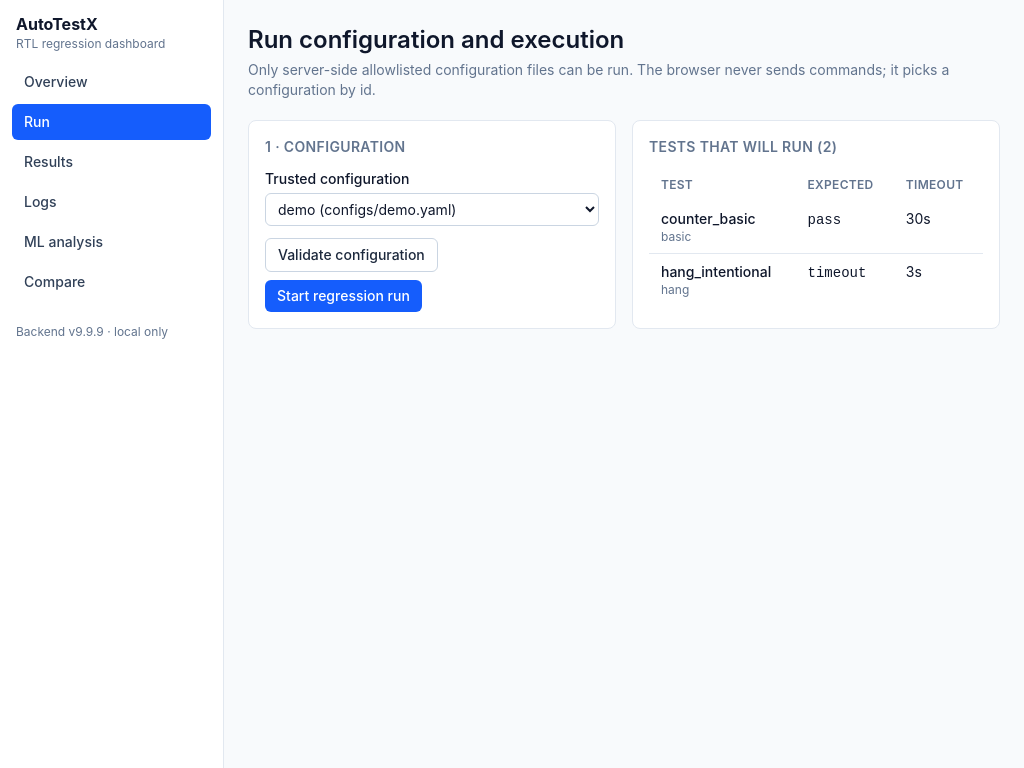
it: Run page › reports a conflict when a run is already active and attaches to it
Check: the text "hang_intentional" is shown, box [661,262,784,282]
Click the button "Start regression run" at (343, 296), box [265,280,422,312]
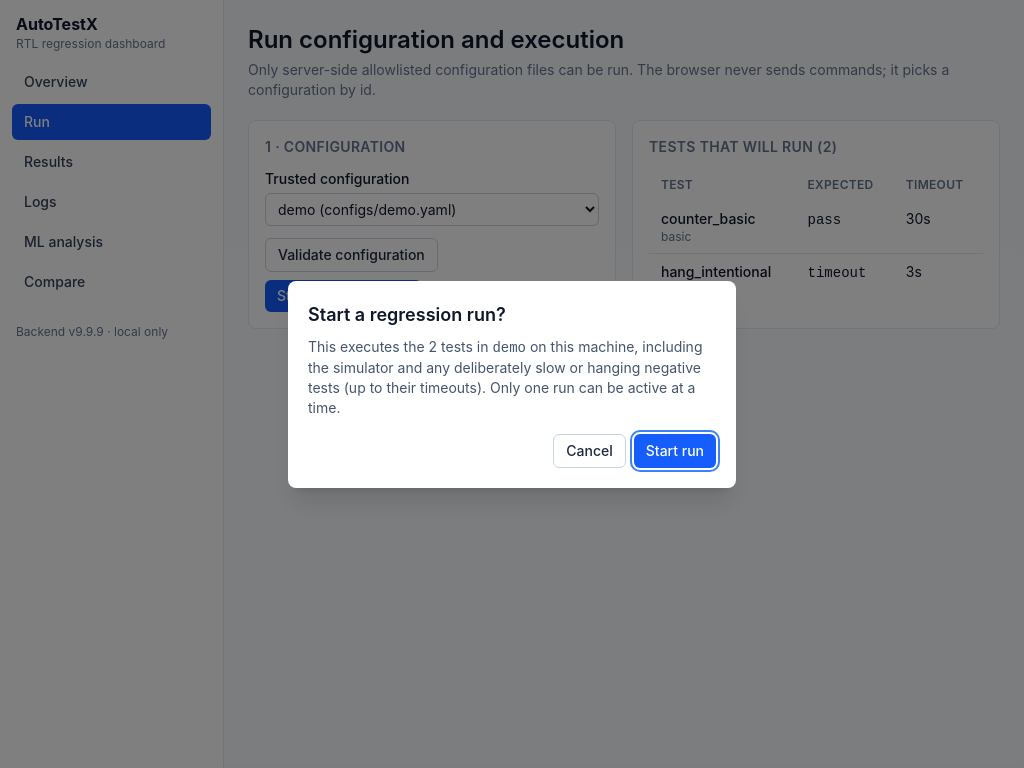
Click the button "Start run" at (675, 450), box [634,434,716,468]
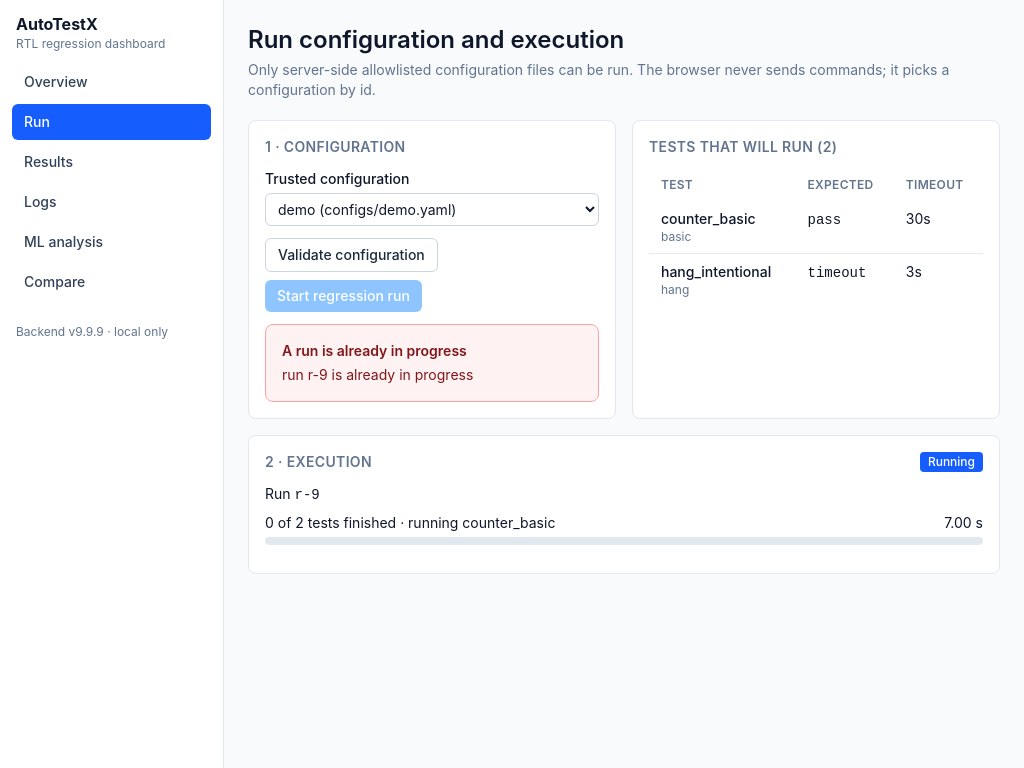
Check: the text "A run is already in progress" is shown, box [282,342,467,359]
Check: the text "r-9" is shown, box [294,487,320,503]
